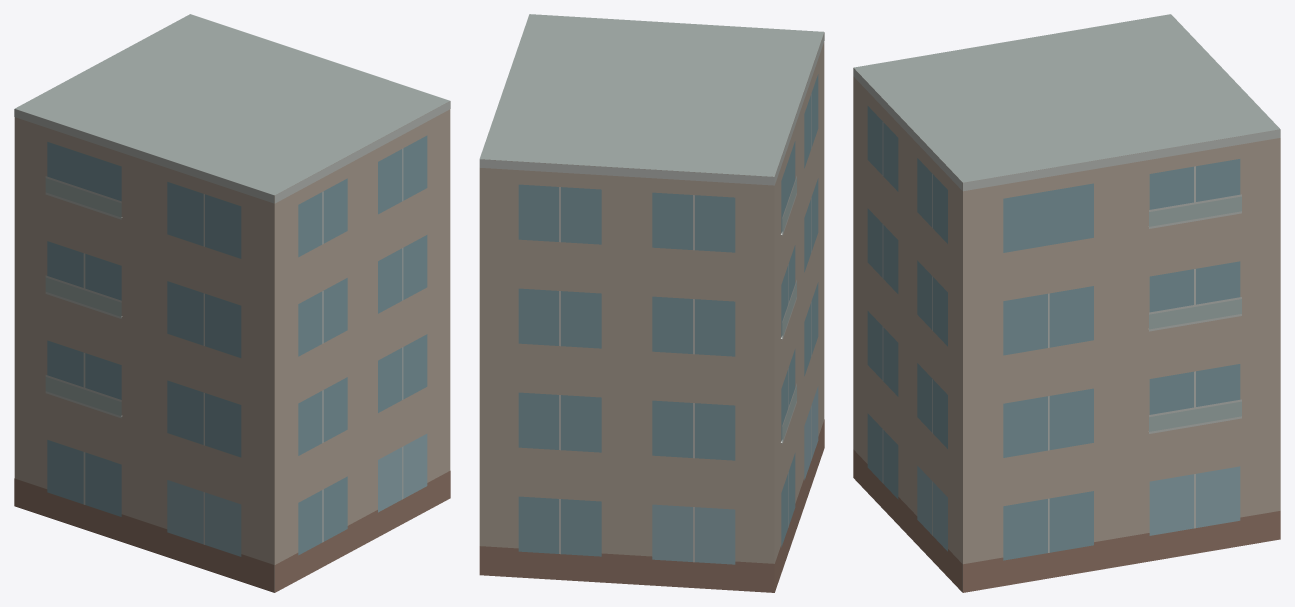
File: survey-upis-32719088.glb
The picture shows the model from 3 angles, left to right: view 1: azimuth 30°, elevation 25°; view 2: azimuth 150°, elevation 25°; view 3: azimuth 270°, elevation 25°; orthographic projection. The views are drawn at different scales.
Visible parts, largest first — view 1: survey-upis-32719088.tmp; view 2: survey-upis-32719088.tmp; view 3: survey-upis-32719088.tmp.
Boxes of the visible parts, x1=… form: survey-upis-32719088.tmp: x1=14, y1=14, x2=450, y2=592; survey-upis-32719088.tmp: x1=479, y1=14, x2=824, y2=592; survey-upis-32719088.tmp: x1=853, y1=14, x2=1280, y2=592.
Size of the model in its own units: 10.33 by 11.7 by 11.06.
